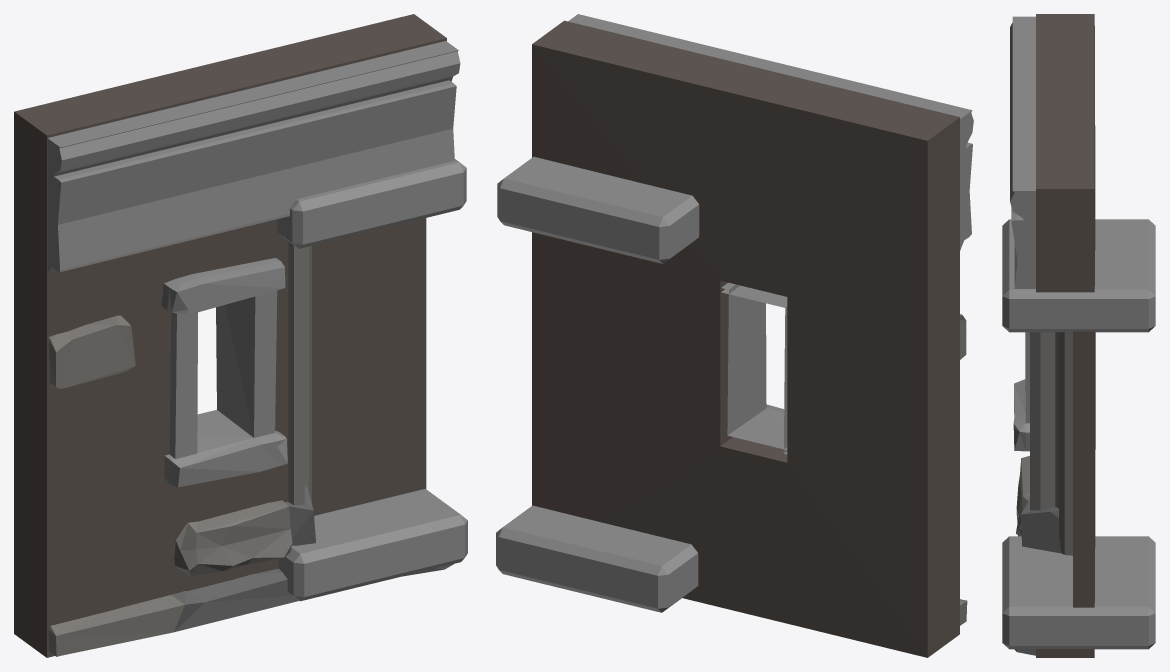
Rendered from MCastle_SquareWalls_Portcullis.FBX.
3 renders of one model, left to right at view 1: azimuth 30°, elevation 25°; view 2: azimuth 150°, elevation 25°; view 3: azimuth 270°, elevation 25°, orthographic. The views are drawn at different scales.
Visible parts, largest first — view 1: MCastle_SquareWalls_Portcullis_LOD0; view 2: MCastle_SquareWalls_Portcullis_LOD0; view 3: MCastle_SquareWalls_Portcullis_LOD0.
Boxes of the visible parts, left/top/right/bottom form: MCastle_SquareWalls_Portcullis_LOD0: left=14, top=14, right=467, bottom=657; MCastle_SquareWalls_Portcullis_LOD0: left=496, top=14, right=973, bottom=657; MCastle_SquareWalls_Portcullis_LOD0: left=1002, top=14, right=1155, bottom=657.
Size of what is drawn, in the model's own units: 3.58 by 4.4 by 1.31.
